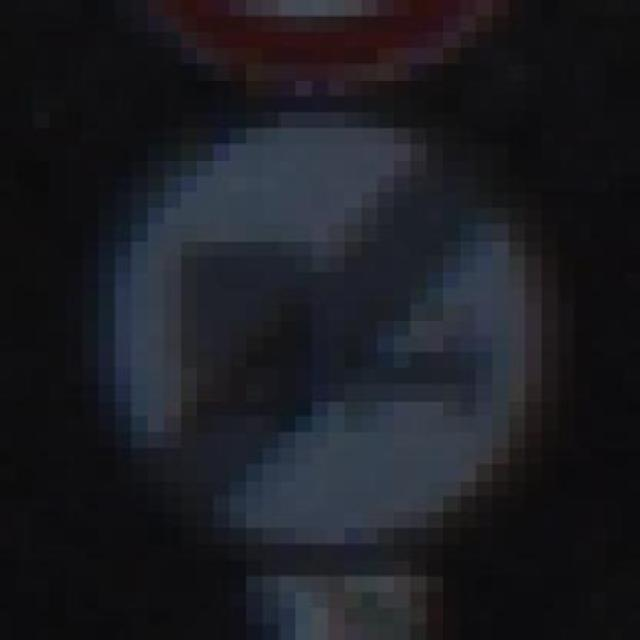Overtaking by trucks is prohibited: (48, 95, 574, 560)
